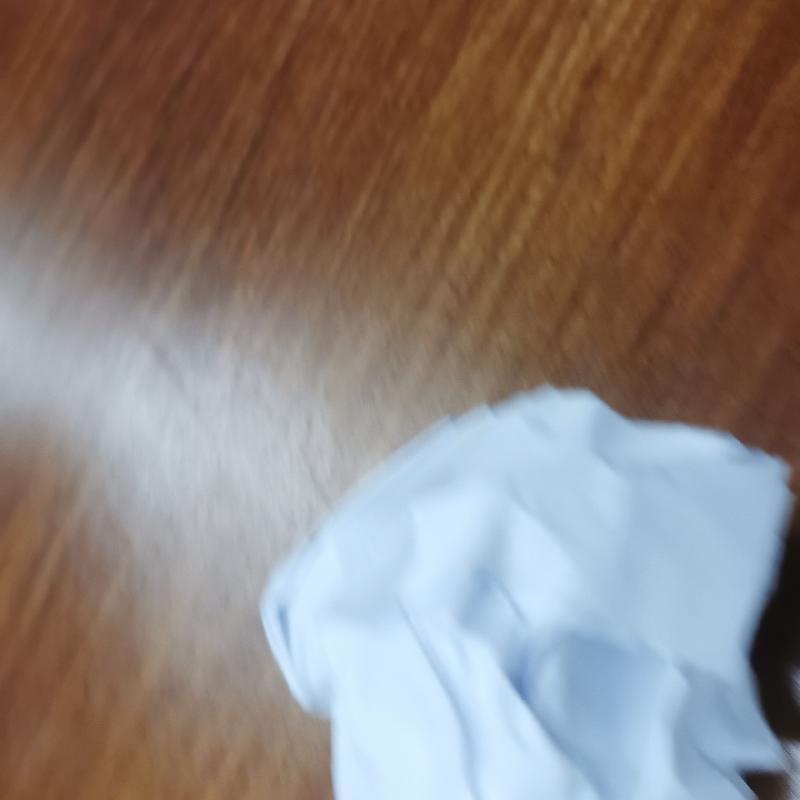spitball: (247, 378, 800, 800)
